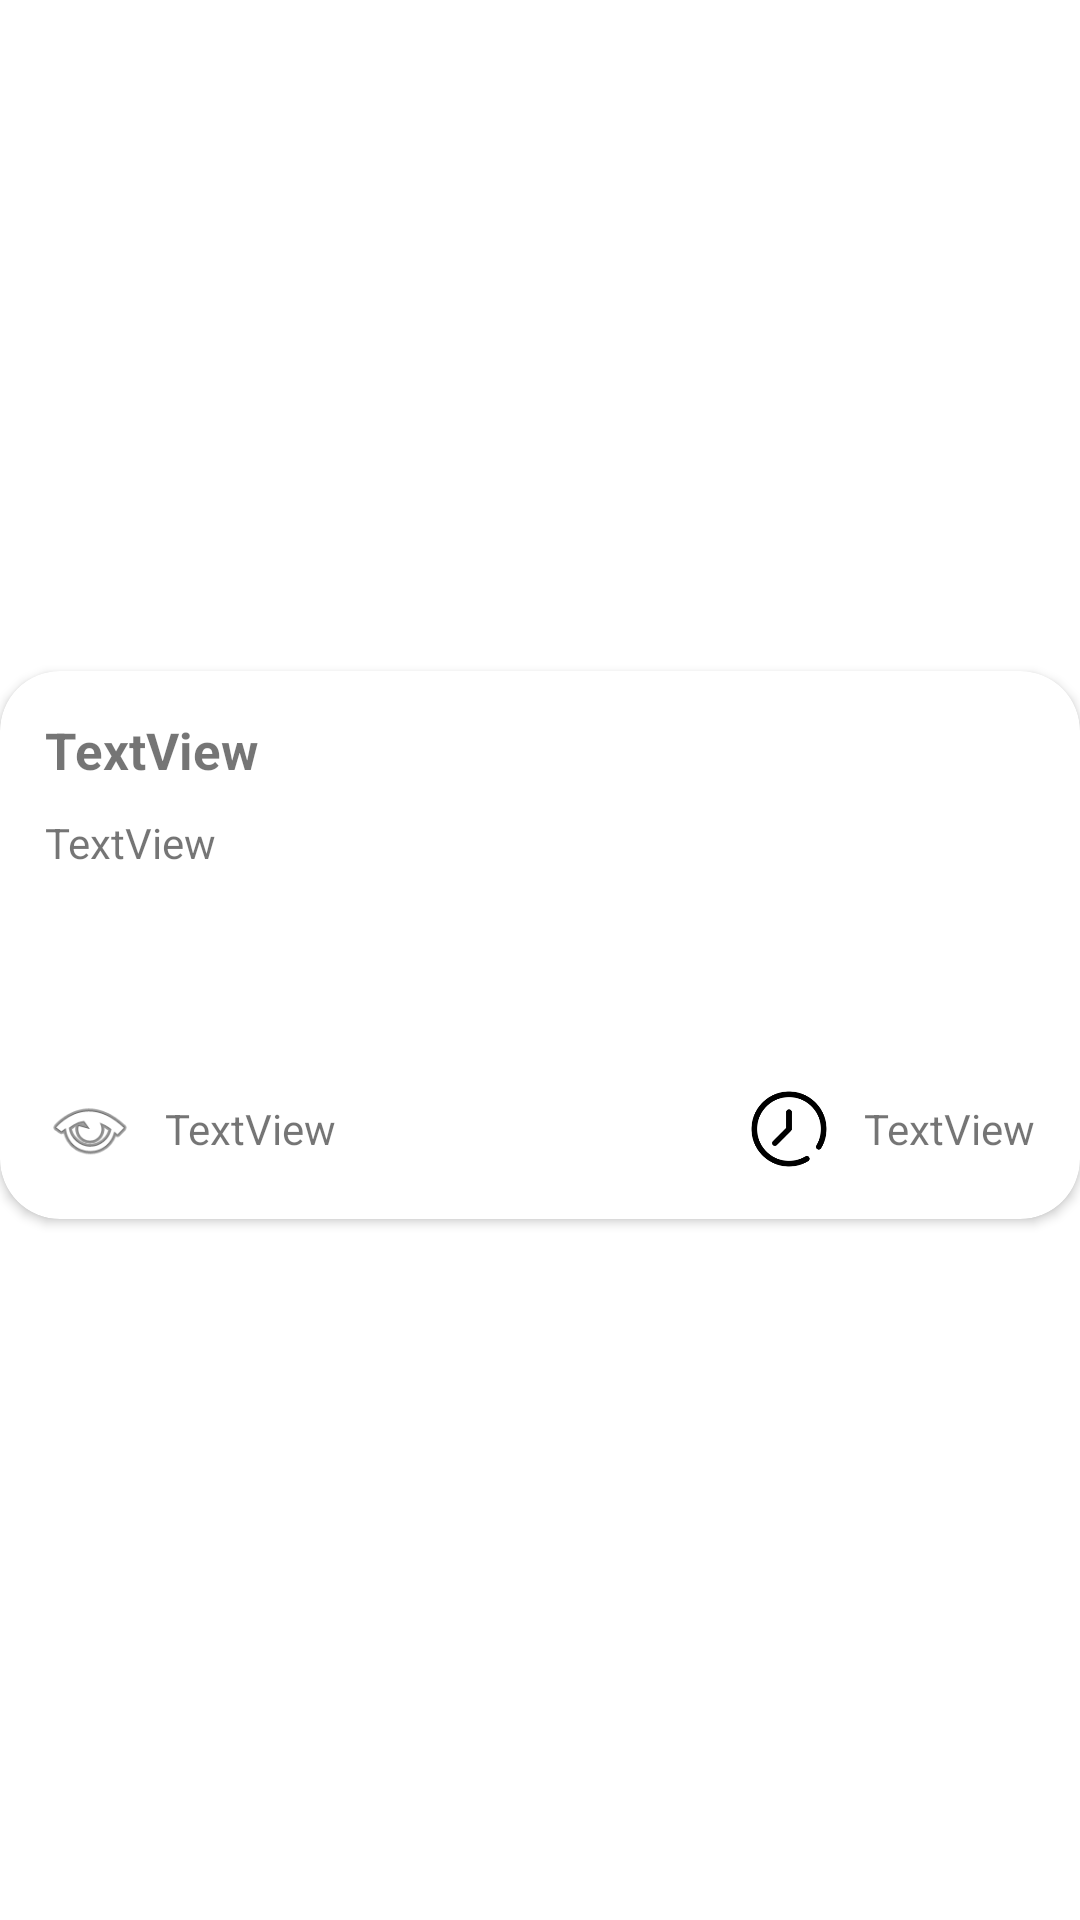

Icon bounding boxes for this 1080×1920 phone screenshot, format Rect(x1, y1, x2, y2):
shijian: Rect(751, 1091, 827, 1167)
